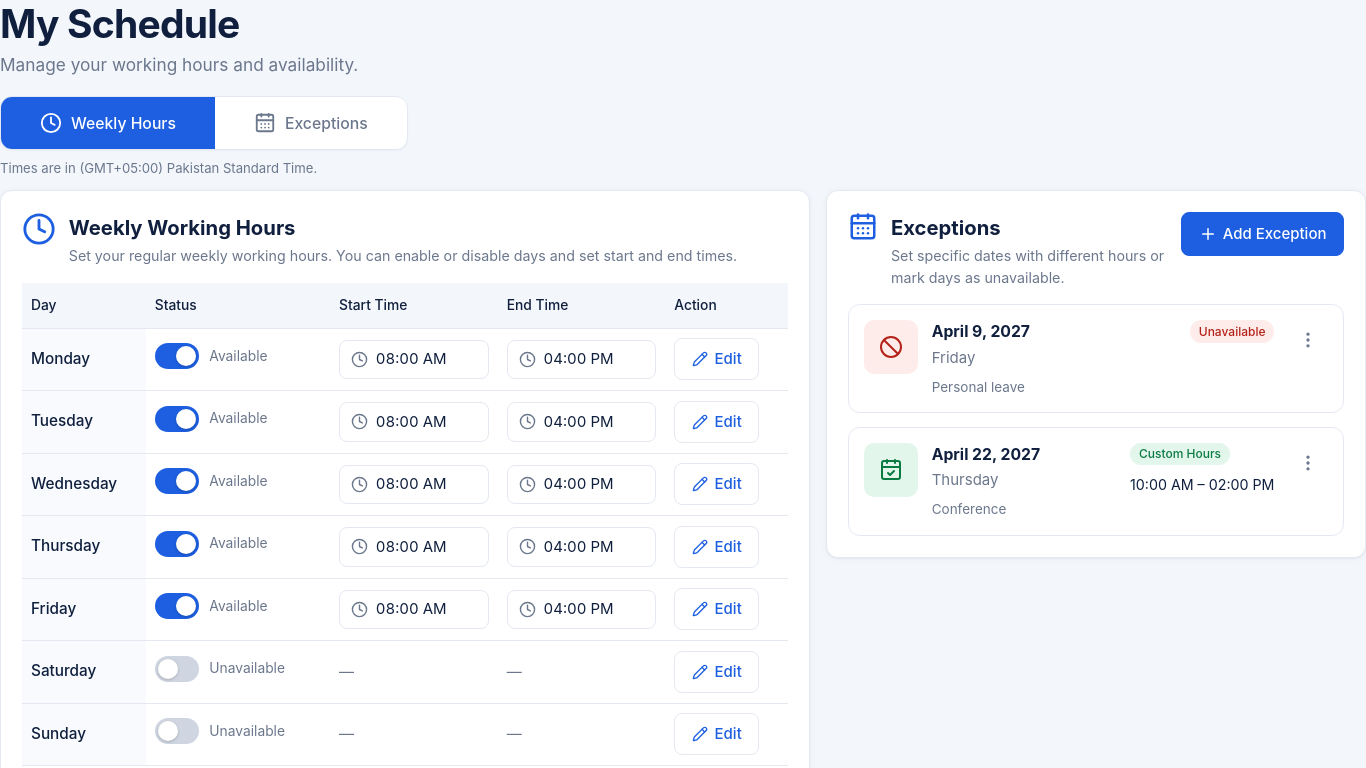
weekly working hours › asks to finish an open editor before saving, and can discard changes
Click the switch named "Friday available" at (177, 606), box [155,593,199,619]
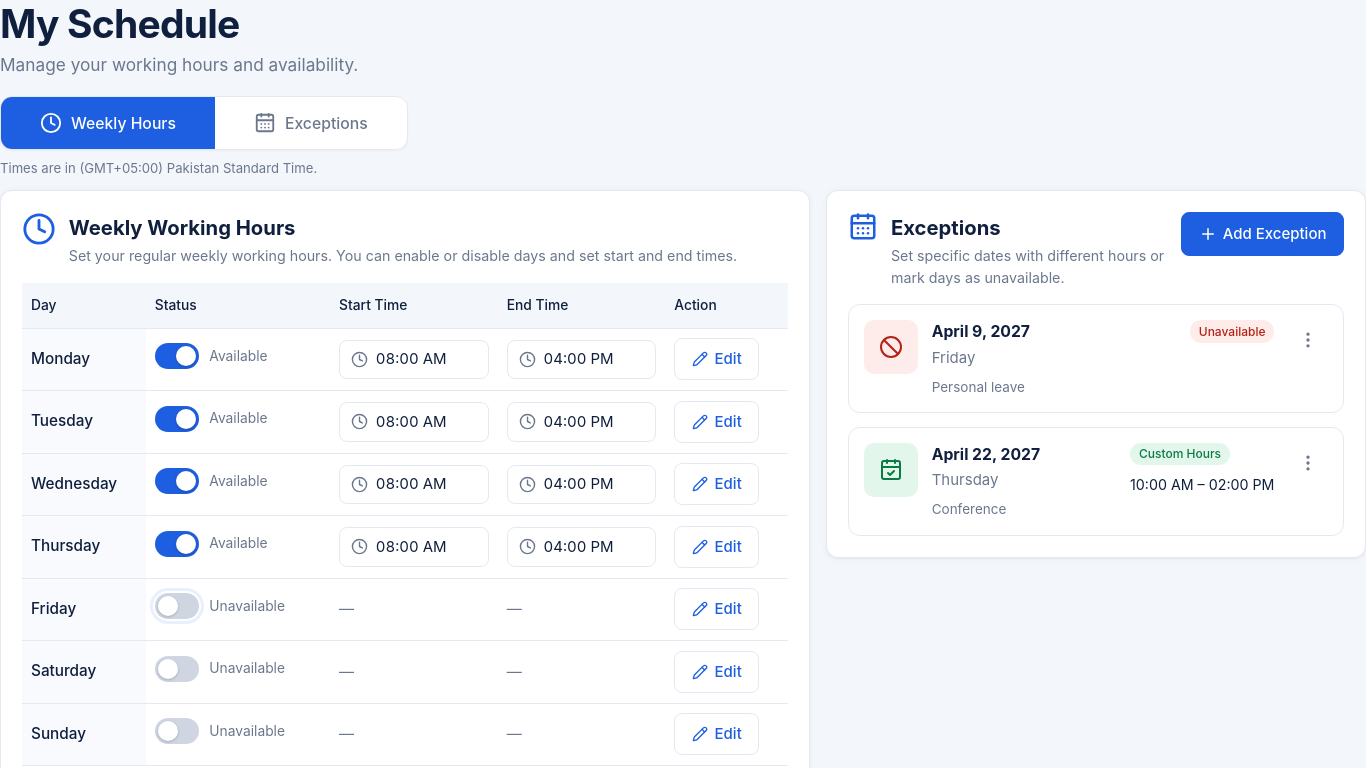
Click the button with aria-label "Edit Monday hours" at (717, 359), box [674,338,759,380]
(page scrolled)
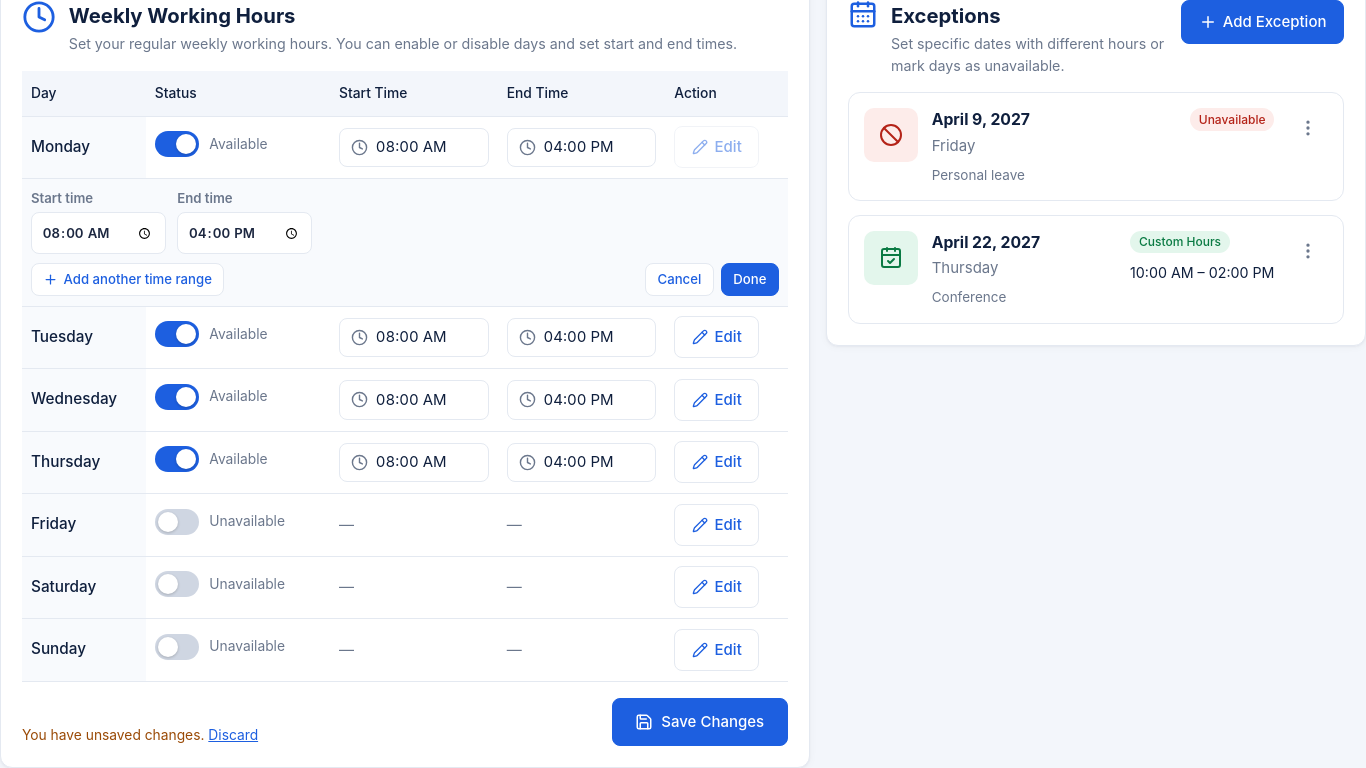
Click the button "Save Changes" at (700, 722), box [612,698,788,746]
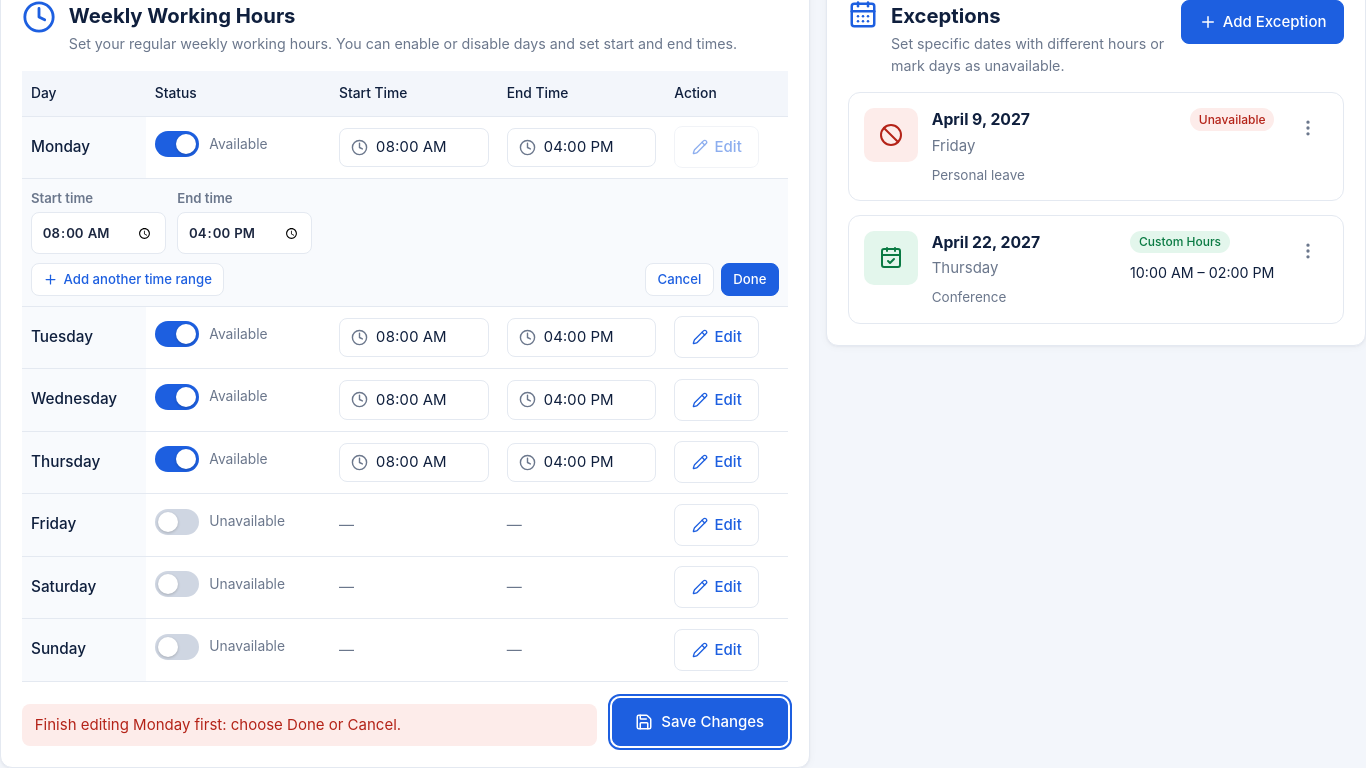
Expected: the text "Finish editing Monday first: choose Done or Cancel." is shown, [22,704,597,746]
Click the button "Cancel" at (679, 280), box [645,264,714,296]
(page scrolled)
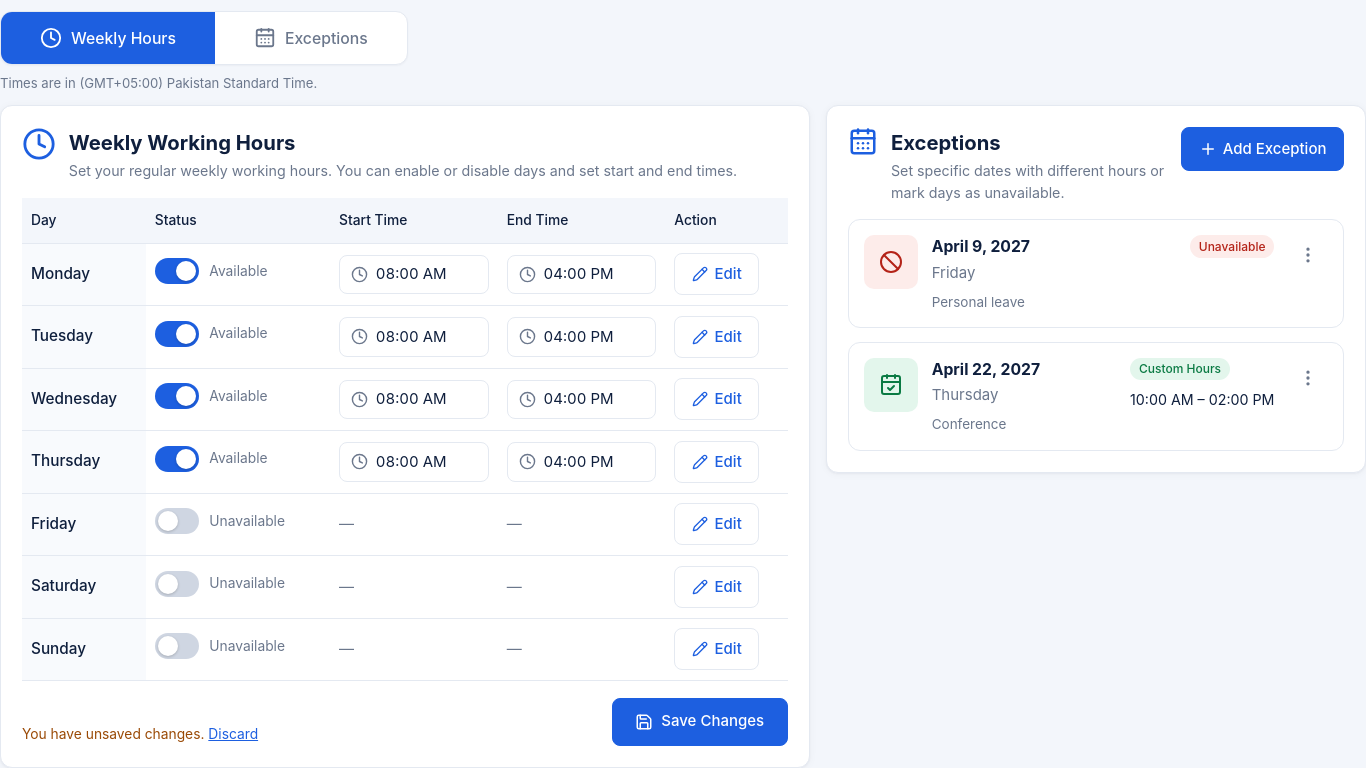
Expected: the text "You have unsaved changes. Discard" is shown, [22,726,258,742]
Click the button "Discard" at (233, 735), box [208,724,258,745]
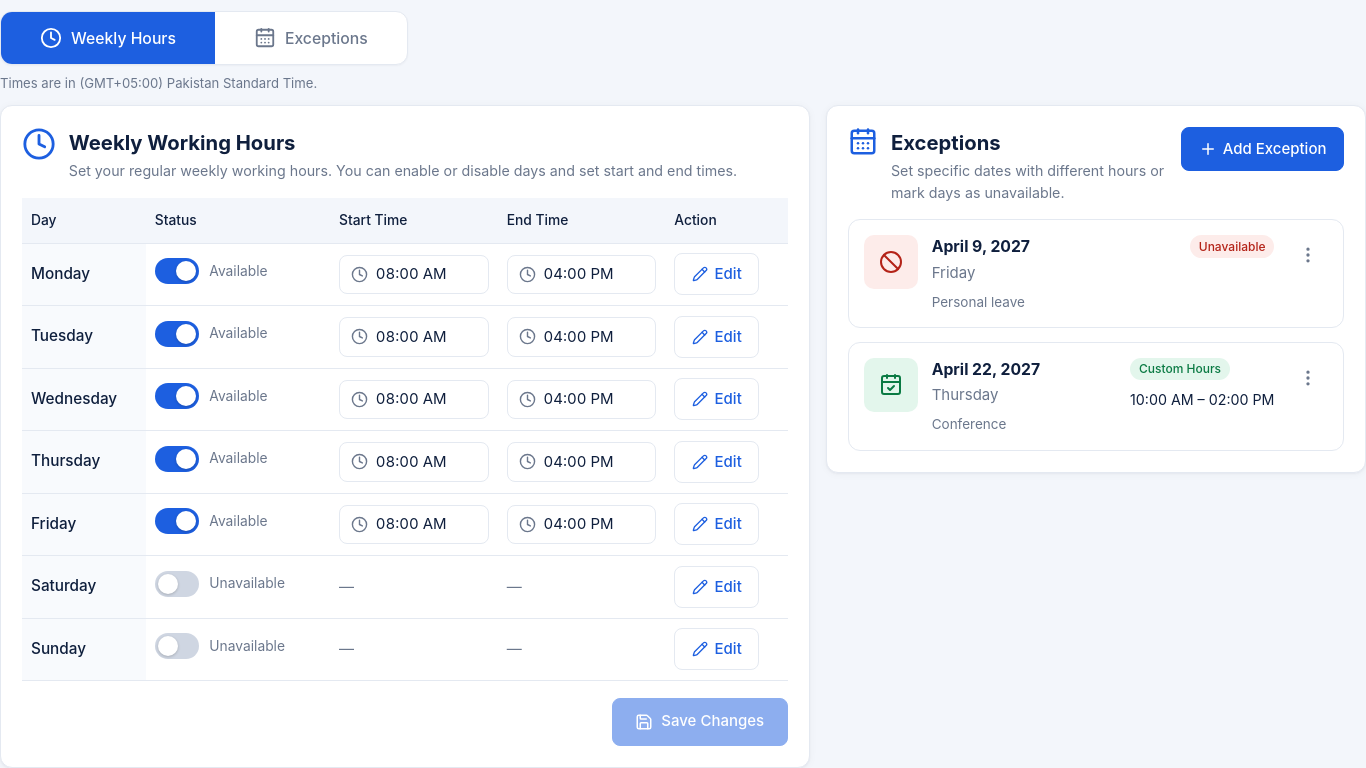
Expected: the row "Friday" shows "Available", [209,513,268,529]
Expected: the button "Save Changes" is disabled, [612,698,788,746]
